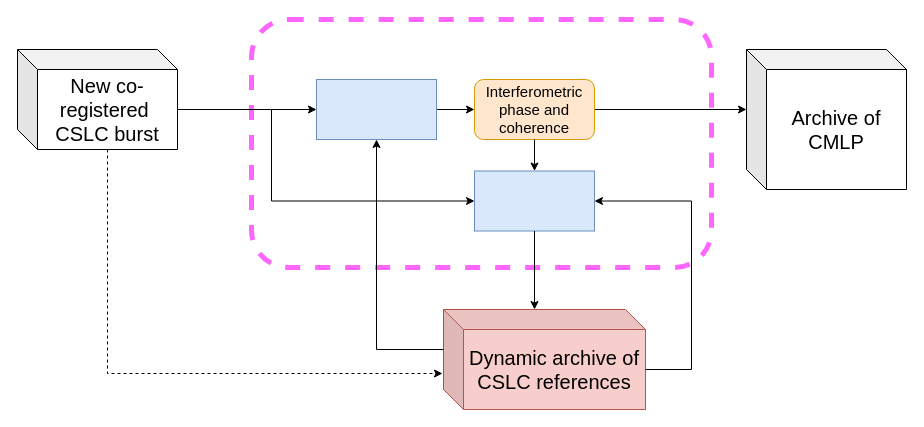
The diagram is 924 pixels wide and 427 high, and some of its shapes have lost their labels. The shapes that lost their labels are listed below. From the top down, each one's centre as x and y in pixels, then its label:
point 376,109: Interferogram formation
point 534,200: Update of references
